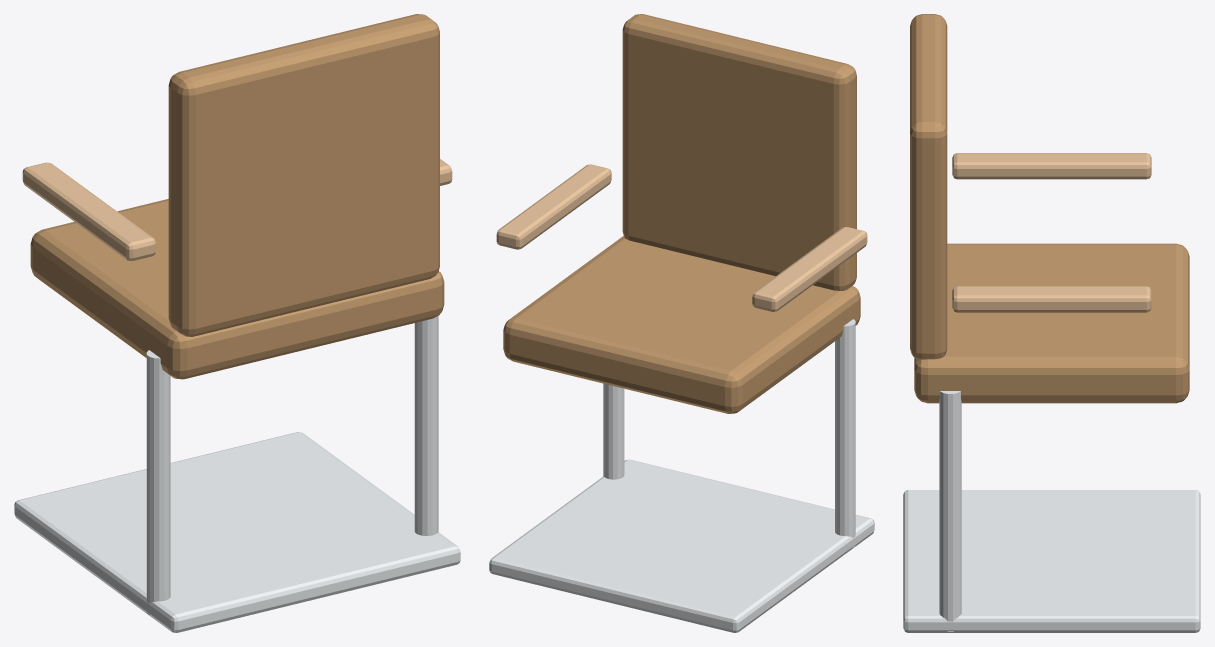
Rendered from office_lounge_seating_reference_board_17.glb.
3 renders of one model, left to right at view 1: azimuth 30°, elevation 25°; view 2: azimuth 150°, elevation 25°; view 3: azimuth 270°, elevation 25°, orthographic. The views are drawn at different scales.
Parts seen in each view (by area): view 1: Cube; view 2: Cube; view 3: Cube.
Boxes of the visible parts, x1,y1,x2,y2 form: Cube: (14, 14, 460, 632); Cube: (489, 14, 874, 632); Cube: (903, 14, 1200, 632).
Bounding box in the file's own units: 0.554 × 0.885 × 0.4756.
